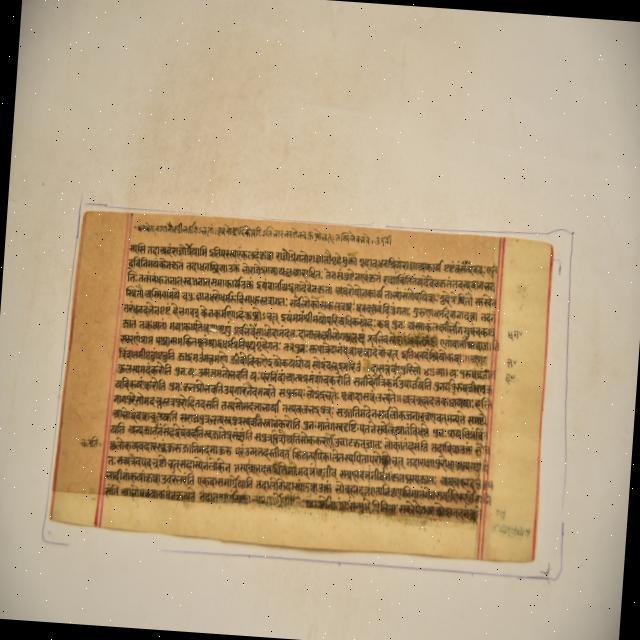text_paragraph: (46, 206, 553, 560)
